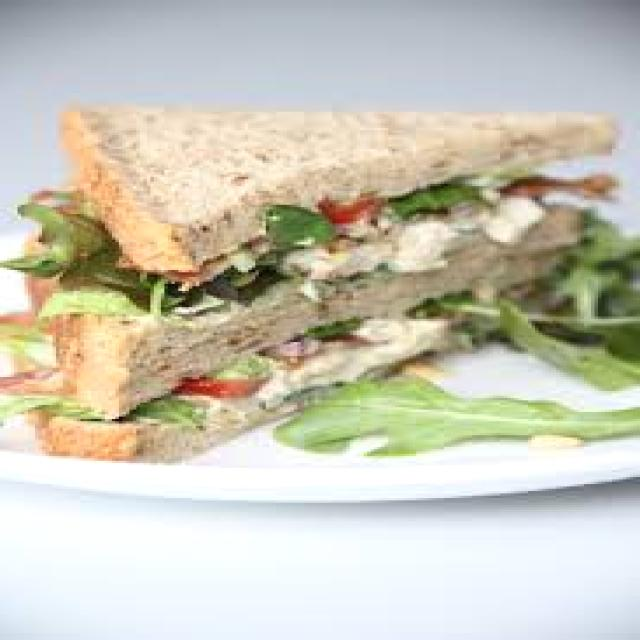wet: (50, 112, 628, 506)
